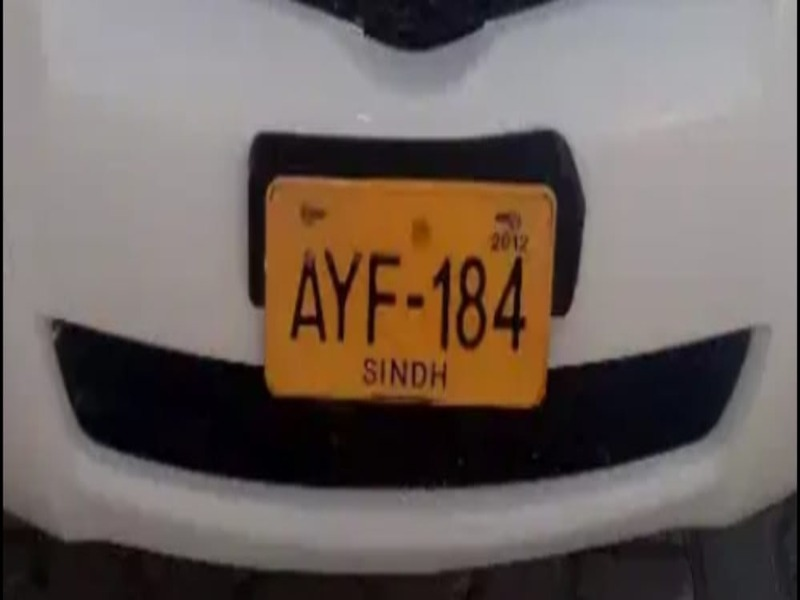License Plate: (265, 172, 555, 411)
